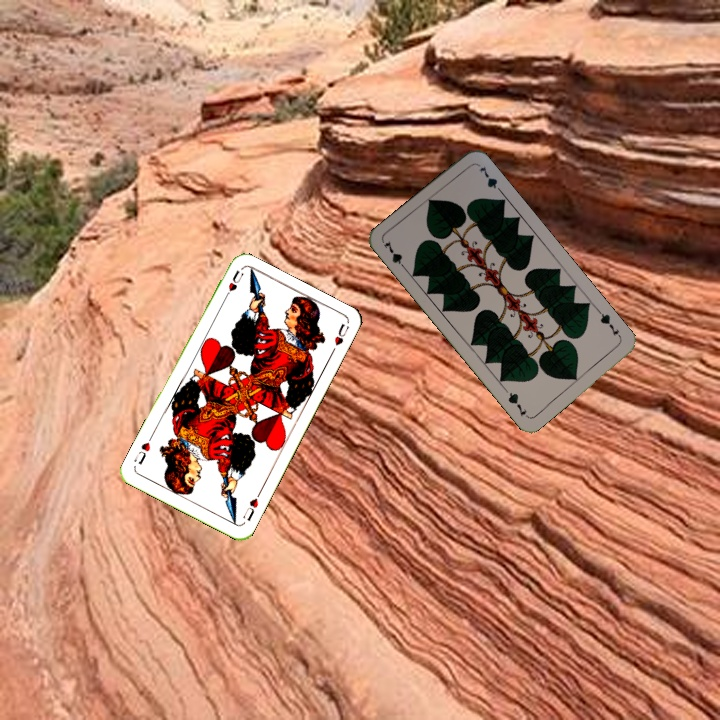G7: (380, 237, 410, 273), (594, 307, 624, 341)
HU: (220, 266, 246, 303), (239, 488, 263, 524)
